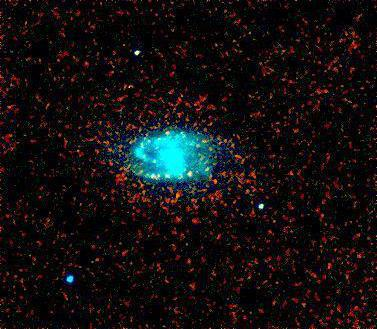star: (176, 159, 206, 189)
